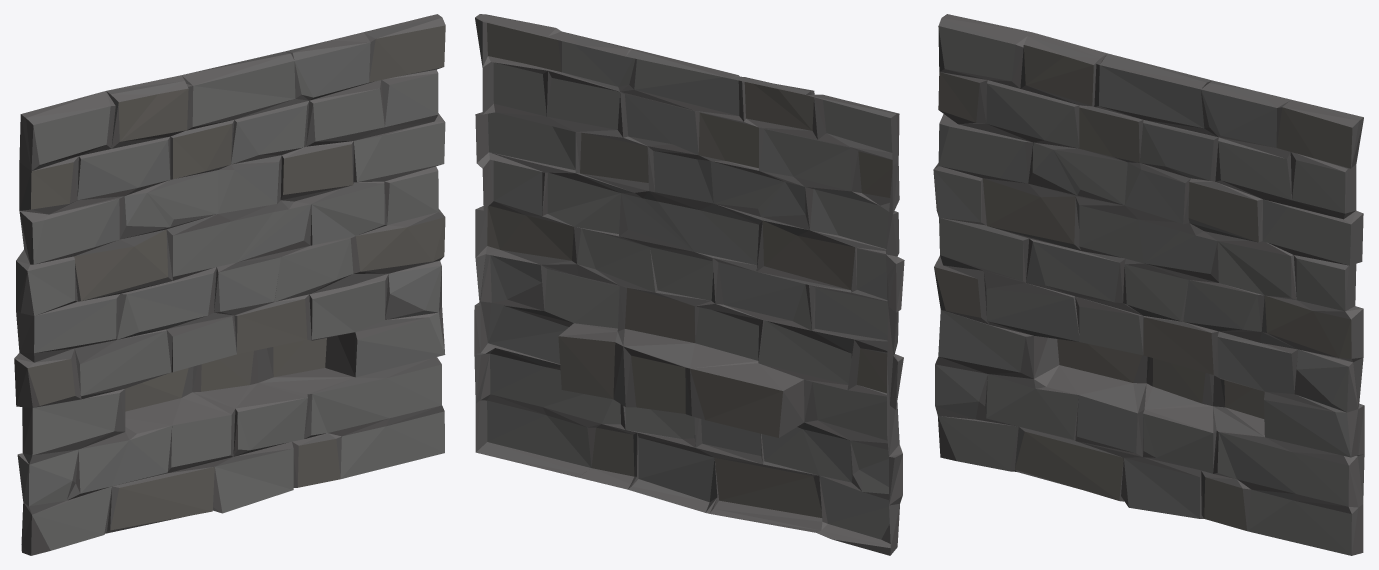
The model's file is SM_Env_Wall_Culled_02.FBX.
3 renders of one model, left to right at view 1: azimuth 30°, elevation 25°; view 2: azimuth 150°, elevation 25°; view 3: azimuth 330°, elevation 25°, orthographic.
Visible parts, largest first — view 1: SM_Env_Wall_Culled_02; view 2: SM_Env_Wall_Culled_02; view 3: SM_Env_Wall_Culled_02.
Boxes of the visible parts, x1,y1,x2,y2 form: SM_Env_Wall_Culled_02: [14, 14, 445, 555]; SM_Env_Wall_Culled_02: [474, 14, 904, 555]; SM_Env_Wall_Culled_02: [933, 14, 1364, 555].
Bounding box in the file's own units: 518 × 52.58 × 517.
